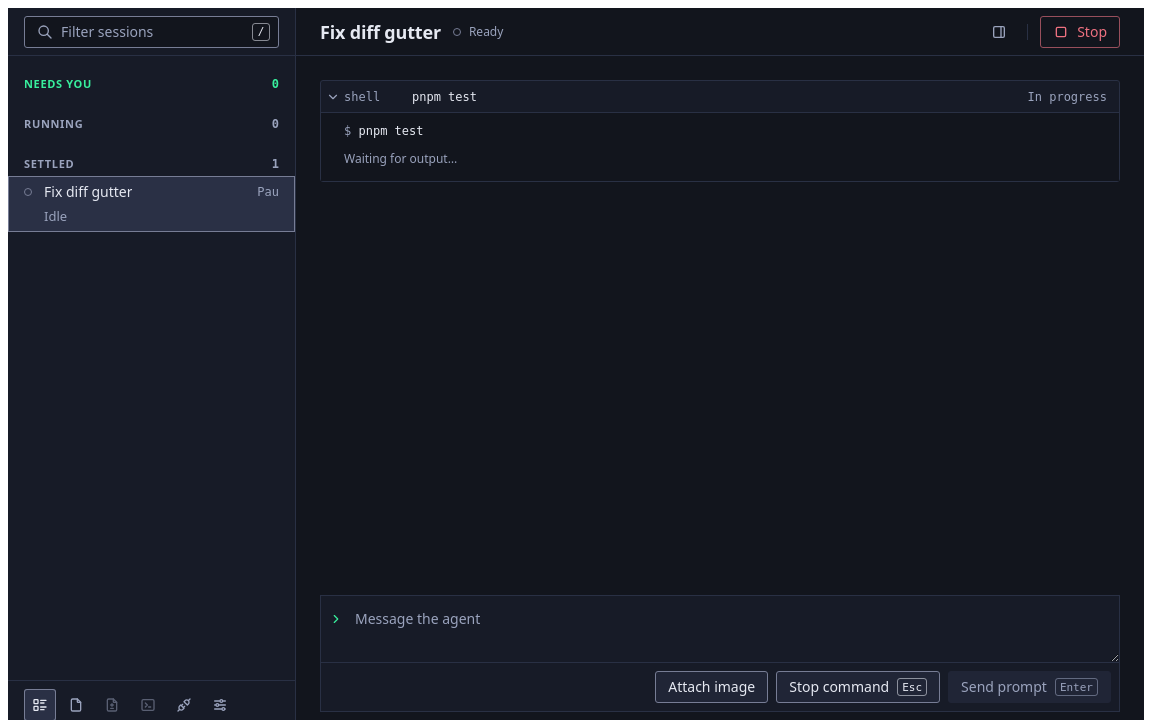
Test: runs one command at a time
The image size is (1152, 720).
Type "!ls" into the text box named "Prompt".
click(731, 629); type("!ls")  # box [343,596,1119,662]
Then press Enter
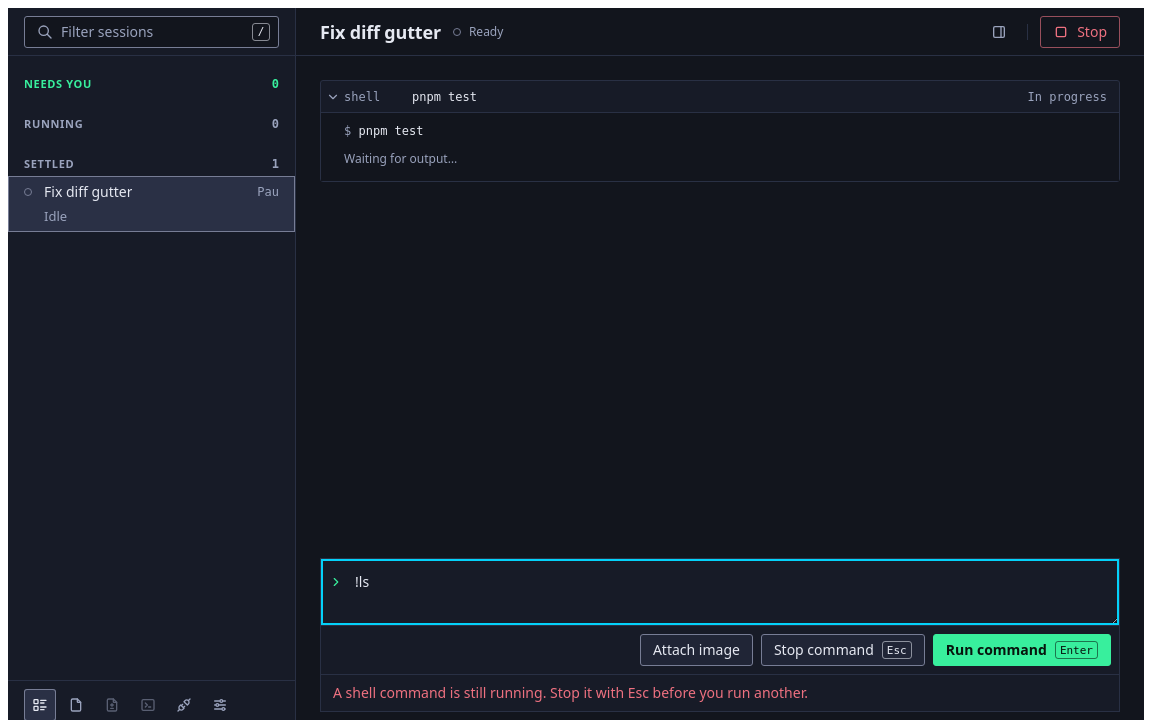
Result: the message shows "A shell command is still running. Stop it with Esc" at [333,683,808,702]
